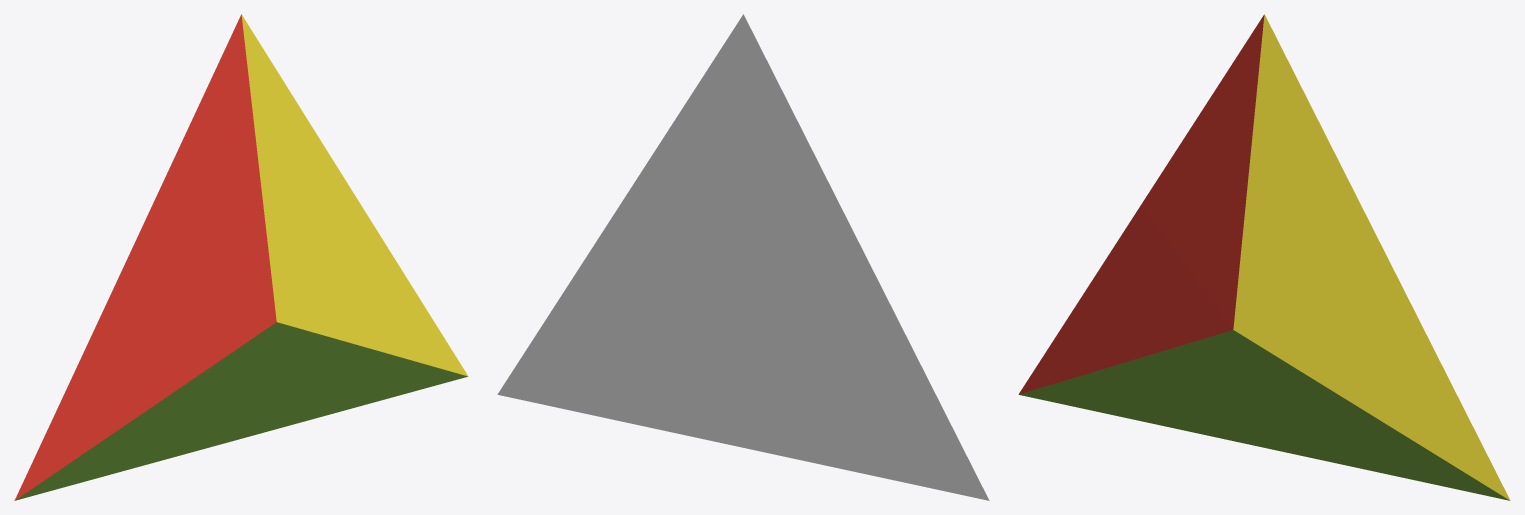
File: triangle.fbx
The picture shows the model from 3 angles, left to right: view 1: azimuth 30°, elevation 25°; view 2: azimuth 150°, elevation 25°; view 3: azimuth 330°, elevation 25°; orthographic projection. The views are drawn at different scales.
Visible parts, largest first — view 1: group_716768526; view 2: group_716768526; view 3: group_716768526.
Part boxes in pixels (x1,y1,x2,y2): group_716768526: [14, 14, 468, 500]; group_716768526: [497, 14, 989, 500]; group_716768526: [1018, 14, 1510, 500].
Bounding box in the file's own units: 59.53 × 51.63 × 8.77.
